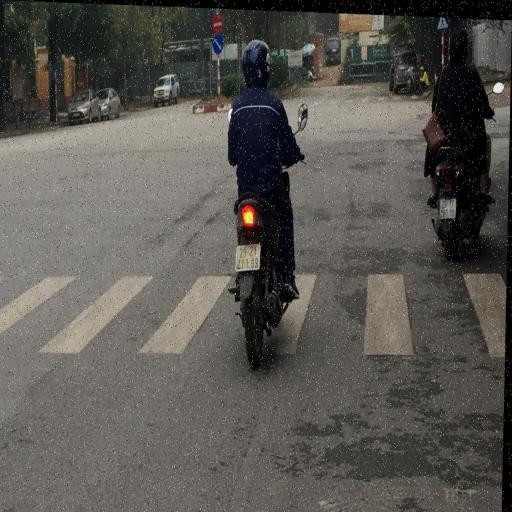bike: (224, 35, 309, 370), (422, 21, 498, 260)
numberplate: (236, 240, 263, 272), (440, 190, 458, 217)
with helmet: (242, 37, 272, 87)
